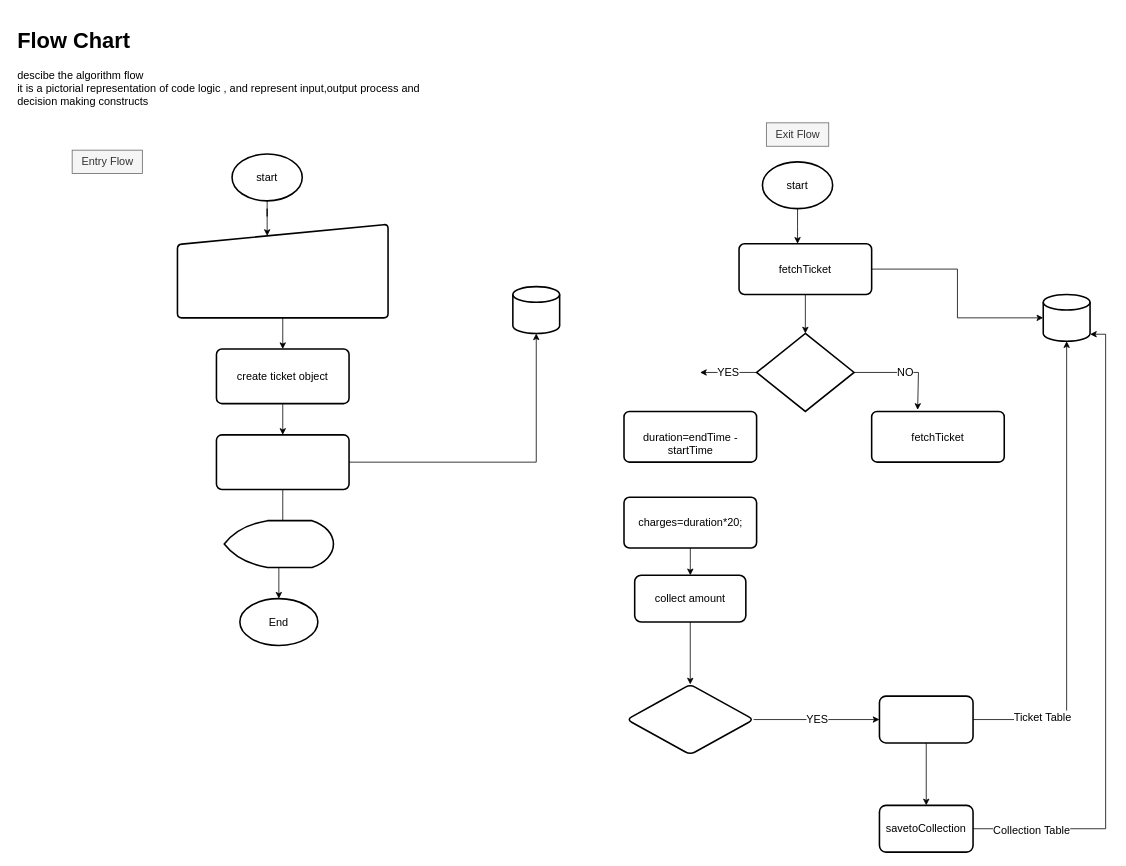
Some shapes in this 1126 by 866 pixel diagram are drawn without their labels. The centre of each missing label's shape, as x and y in pixels:
amountCollected: (x=690, y=719)
closeTicket printInvoice: (x=925, y=719)
isTicketValid?: (x=804, y=372)
print ticketNo: (x=278, y=543)
regNo:"MH04-HM5159" vehicleType:"2 wheeler" contactNo:"8080811145": (x=282, y=270)
save in DB: (x=282, y=462)
